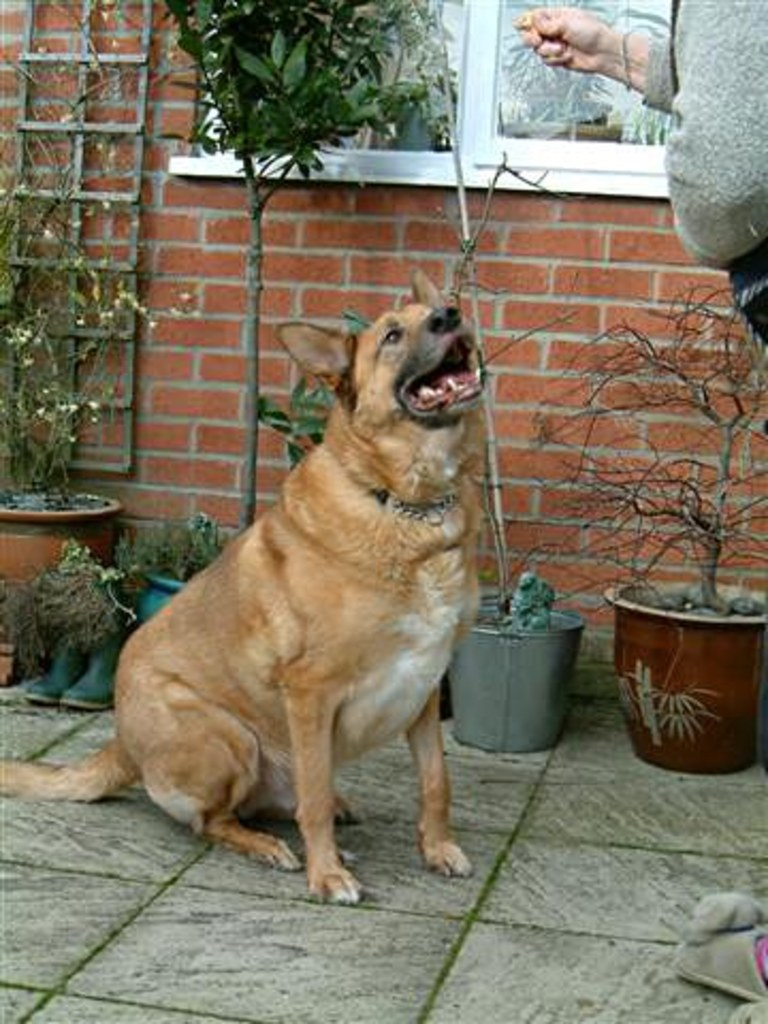Human_hand: (517, 6, 616, 69)
